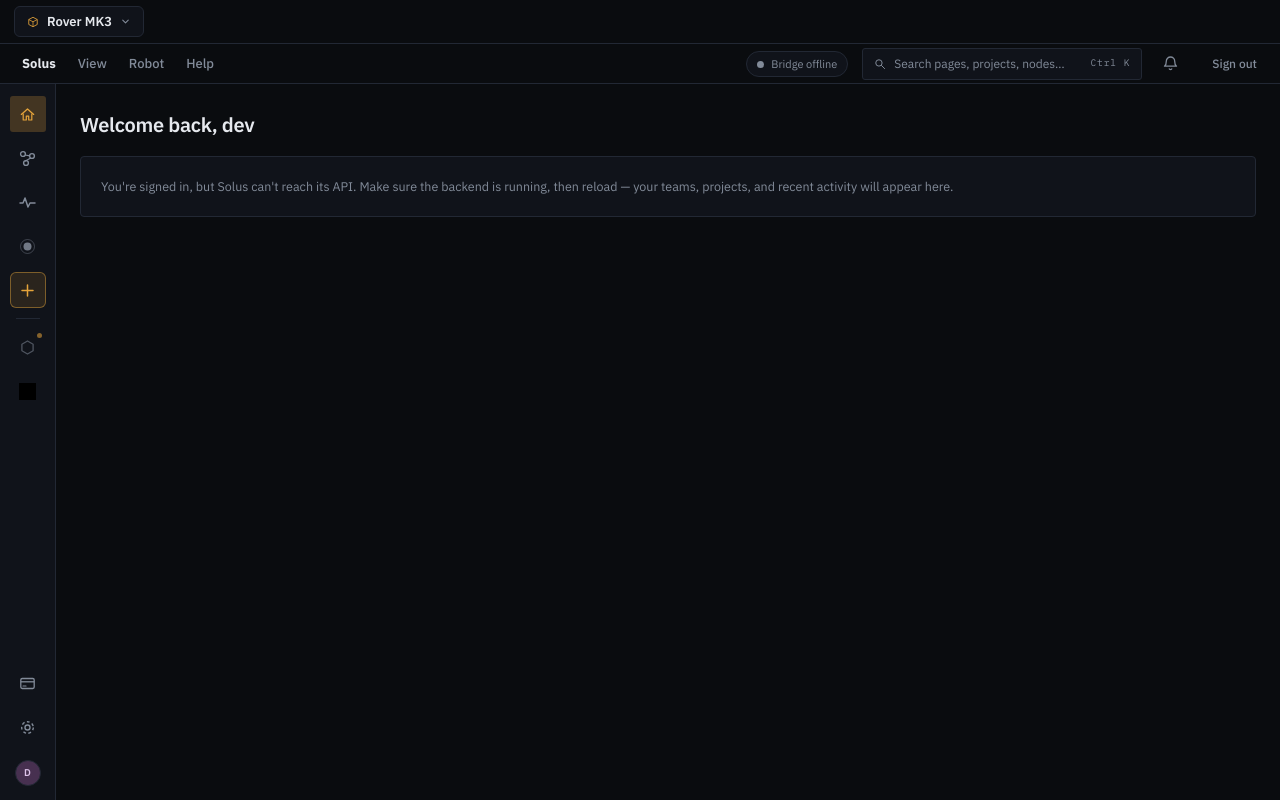
WorkspaceShell — pins and first-party pages (STORE ST3 / ST4) › an installed first-party bundle opens its in-repo page, not a frame
Click the element labelled "BOM" at (28, 391), box top-left (19, 382), bottom-right (36, 400)
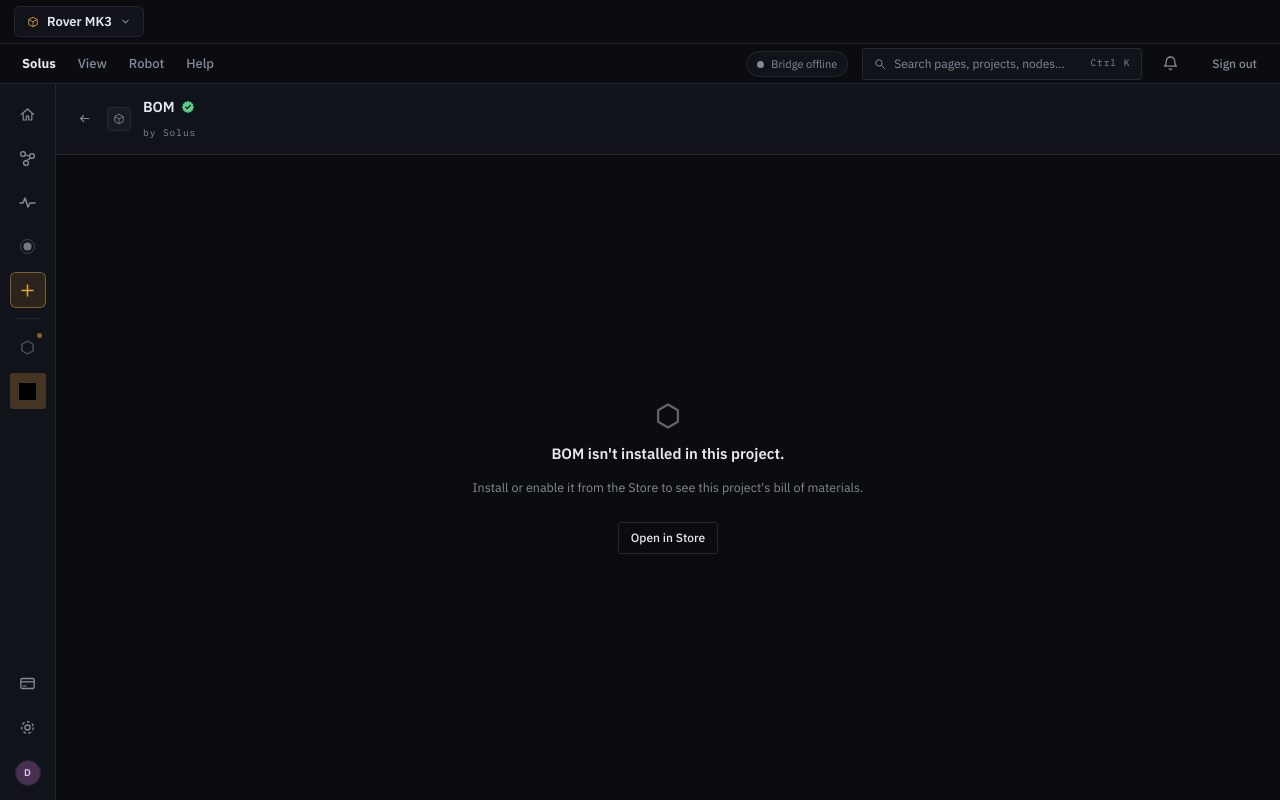
Now the element with test id "bom-screen" is shown
